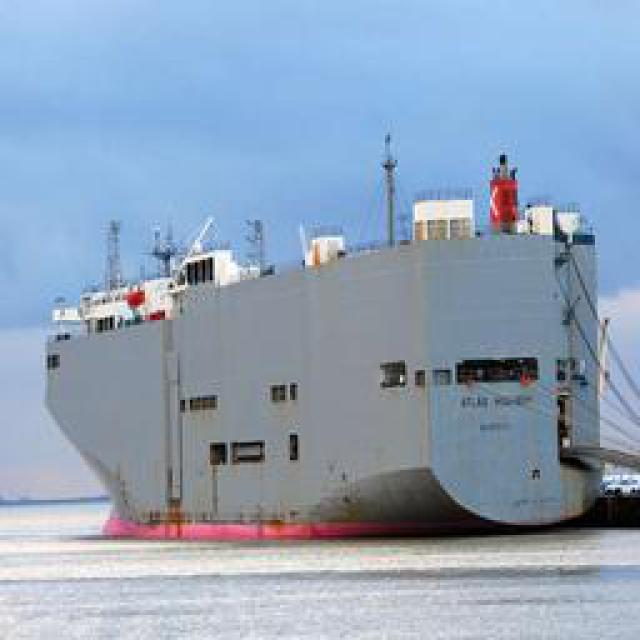Ship: (39, 160, 632, 538)
